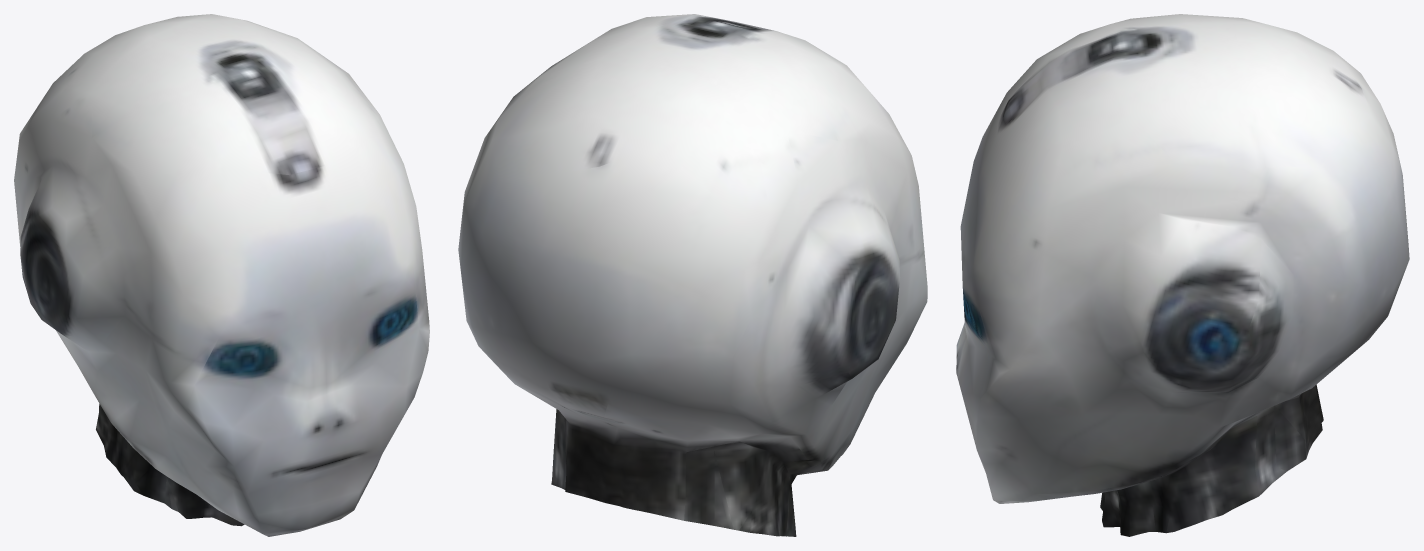
Rendered from head.obj.
3 views of the same model, side by side, from view 1: azimuth 30°, elevation 25°; view 2: azimuth 150°, elevation 25°; view 3: azimuth 270°, elevation 25° (orthographic). The views are drawn at different scales.
Parts seen in each view (by area): view 1: head; view 2: head; view 3: head.
Boxes of the visible parts, left/top/right/bottom form: head: left=14, top=14, right=429, bottom=536; head: left=458, top=14, right=927, bottom=536; head: left=956, top=14, right=1409, bottom=536.
Bounding box in the file's own units: 0.2564 × 0.3259 × 0.2805.
Materials: 2 (1 with a texture image).
